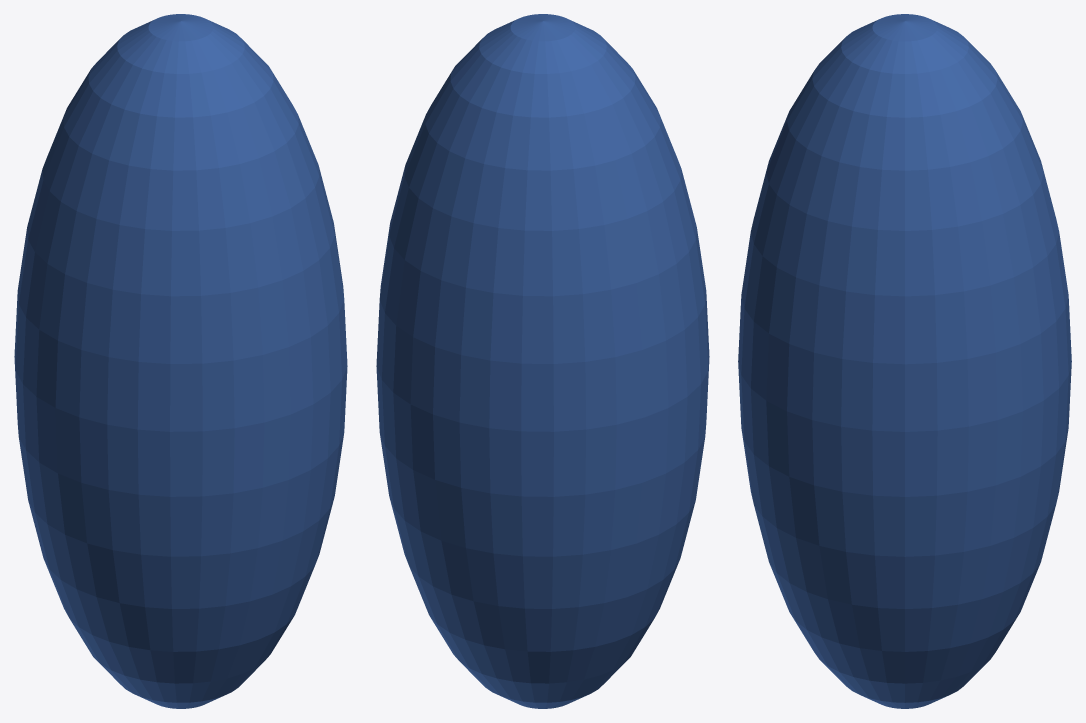
The model's file is CHAR_Hunter_proxy.obj.
The picture shows the model from 3 angles, left to right: view 1: azimuth 30°, elevation 25°; view 2: azimuth 150°, elevation 25°; view 3: azimuth 270°, elevation 25°; orthographic projection.
Visible parts, largest first — view 1: CHAR_Hunter_proxy; view 2: CHAR_Hunter_proxy; view 3: CHAR_Hunter_proxy.
Boxes of the visible parts, x1,y1,x2,y2 form: CHAR_Hunter_proxy: (14, 14, 347, 708); CHAR_Hunter_proxy: (376, 14, 709, 708); CHAR_Hunter_proxy: (738, 14, 1071, 708).
Bounding box in the file's own units: 0.8 × 1.8 × 0.8.
